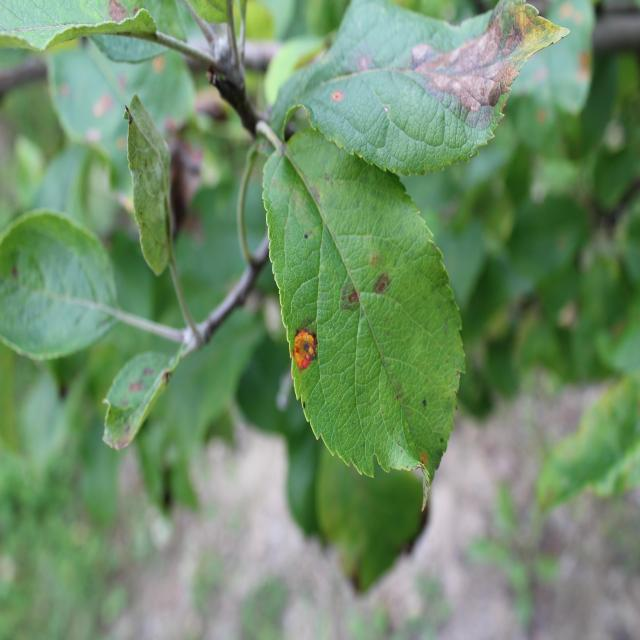rust: (260, 128, 466, 487)
